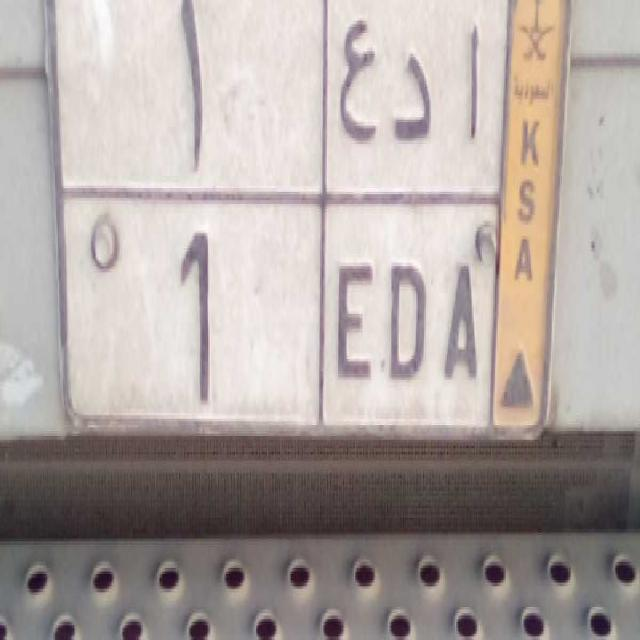license_plate: (59, 192, 494, 432)
